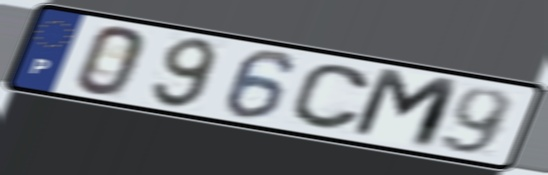0: (72, 23, 147, 99)
6: (222, 48, 298, 122)
9: (436, 85, 521, 155), (148, 35, 224, 111)
C: (286, 62, 375, 133)
M: (346, 64, 465, 153)
